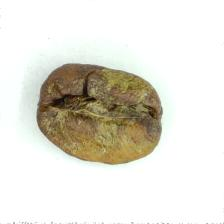NG: (47, 68, 155, 155)
